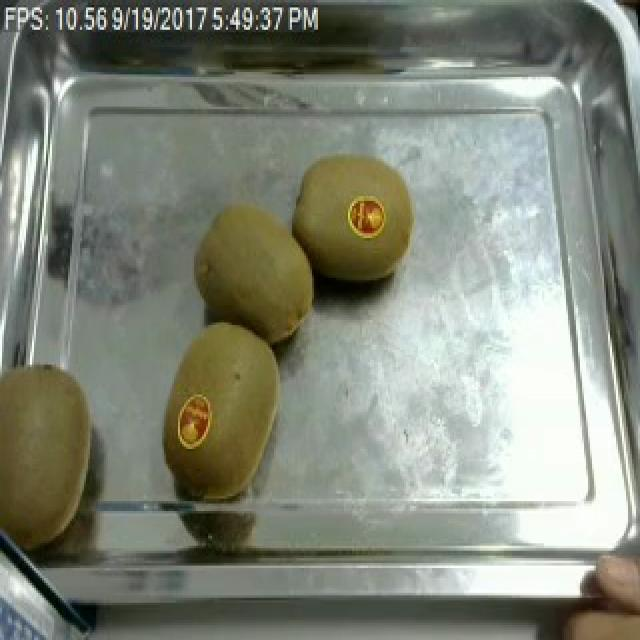Fruit: (162, 310, 292, 506), (0, 352, 106, 568), (188, 196, 326, 352), (286, 144, 424, 290), (554, 548, 640, 640), (534, 598, 640, 640)
